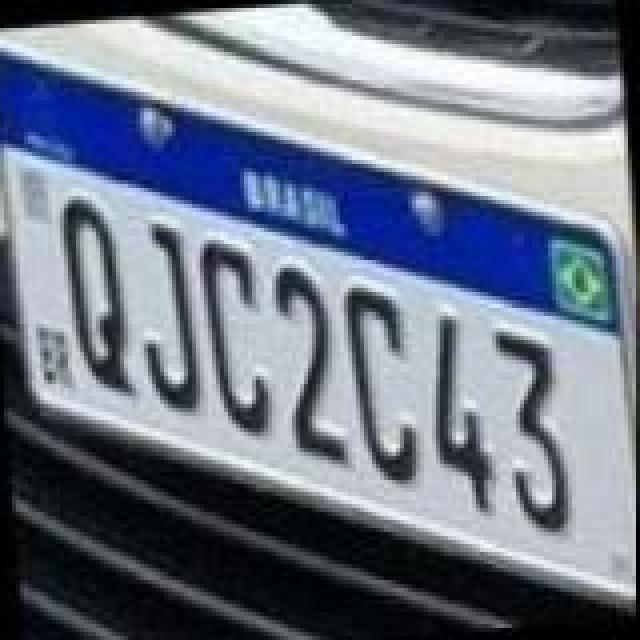2: (268, 250, 356, 470)
3: (490, 314, 578, 534)
4: (418, 304, 498, 520)
C: (336, 268, 424, 488), (194, 222, 274, 438)
J: (128, 208, 204, 412)
Q: (50, 184, 134, 400)
